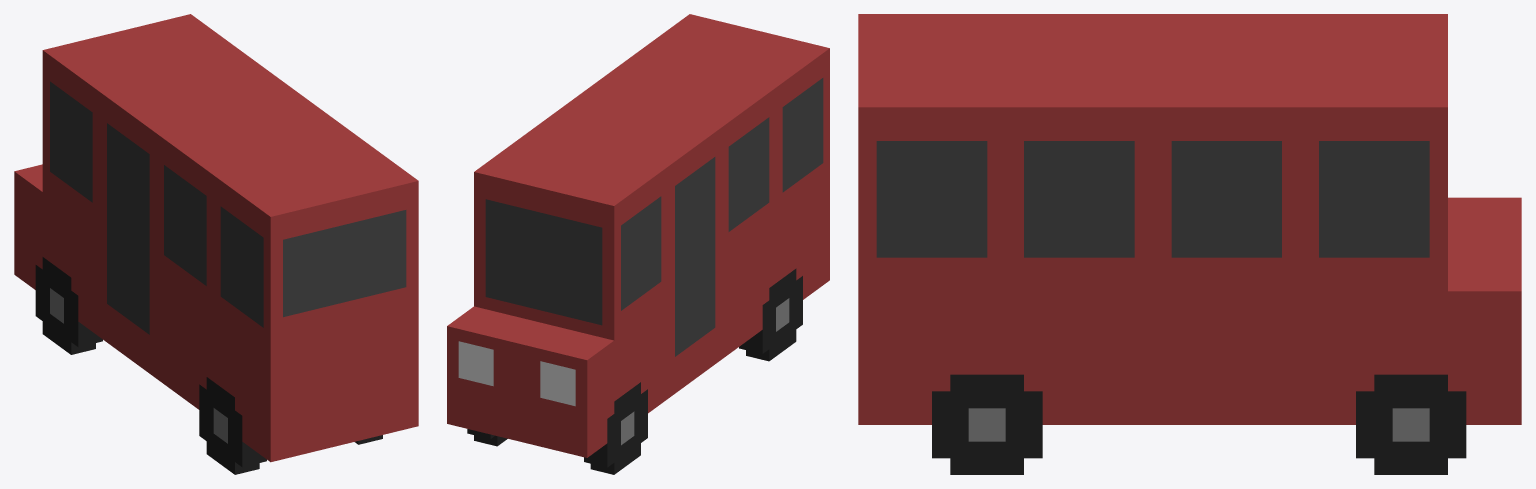
The model's file is bus_red.obj.
3 views of the same model, side by side, from view 1: azimuth 30°, elevation 25°; view 2: azimuth 150°, elevation 25°; view 3: azimuth 270°, elevation 25° (orthographic). The views are drawn at different scales.
Visible parts, largest first — view 1: bus_red; view 2: bus_red; view 3: bus_red.
Part boxes in pixels (<box>): bus_red: <box>14,14,418,474</box>; bus_red: <box>447,14,829,474</box>; bus_red: <box>858,14,1521,474</box>.
Bounding box in the file's own units: 12 × 22 × 36.
Materials: 1 (1 with a texture image).
